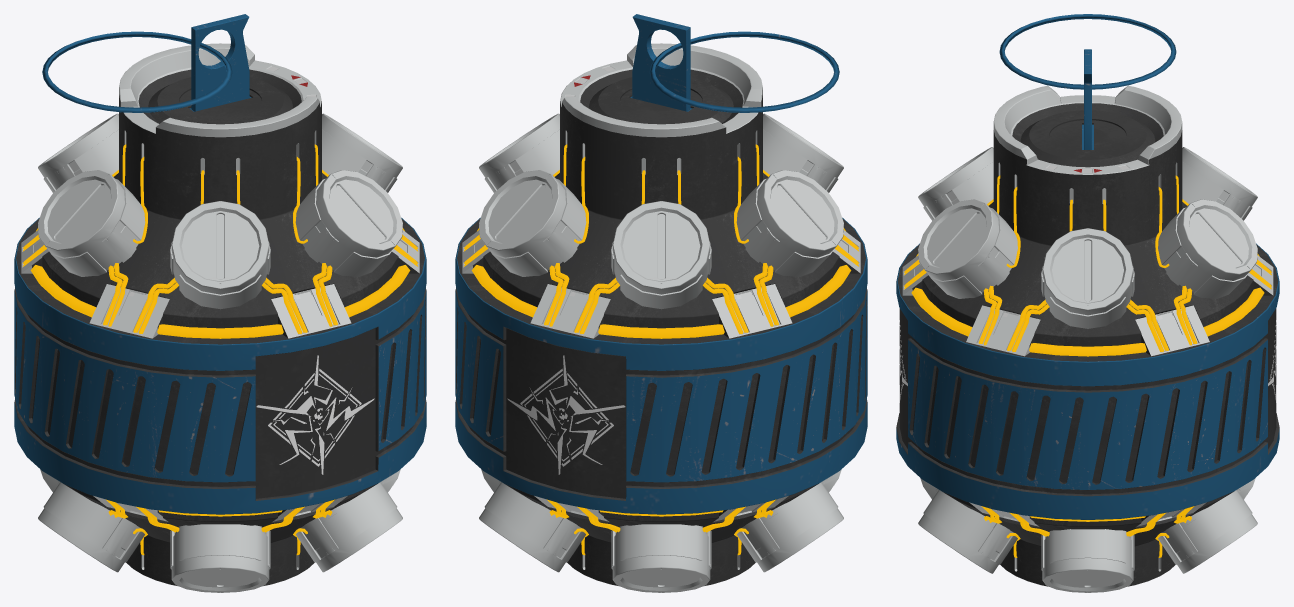
Rendered from Grenade_emp.fbx.
3 views of the same model, side by side, from view 1: azimuth 30°, elevation 25°; view 2: azimuth 150°, elevation 25°; view 3: azimuth 270°, elevation 25° (orthographic). The views are drawn at different scales.
Parts seen in each view (by area): view 1: Grenade, Grenade_cup, Fuze, Ring; view 2: Grenade, Grenade_cup, Fuze, Ring; view 3: Grenade, Grenade_cup, Ring, Fuze.
Part boxes in pixels (x1,y1,x2,y2): Grenade: [14, 43, 426, 592]; Grenade_cup: [138, 69, 301, 124]; Fuze: [189, 14, 251, 111]; Ring: [42, 31, 232, 112]; Grenade: [455, 43, 867, 592]; Grenade_cup: [580, 69, 743, 124]; Fuze: [630, 14, 692, 111]; Ring: [649, 31, 839, 112]; Grenade: [896, 85, 1279, 592]; Grenade_cup: [1012, 103, 1163, 167]; Ring: [999, 14, 1176, 89]; Fuze: [1082, 49, 1093, 149].
Bounding box in the file's own units: 13.76 × 19.38 × 13.76.
